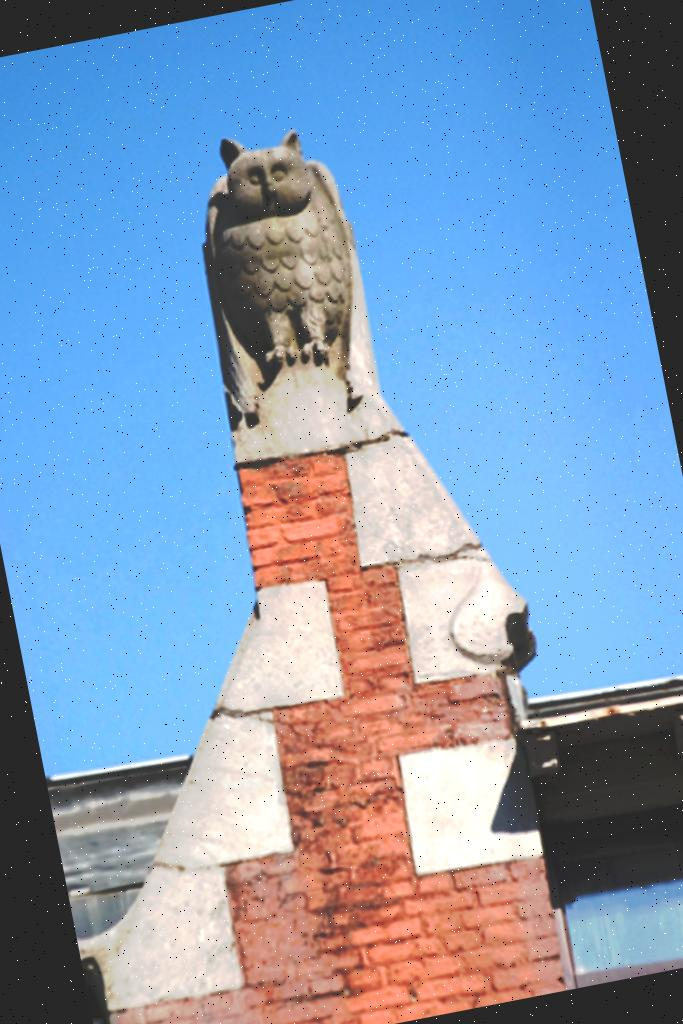Owl: (191, 116, 367, 378)
